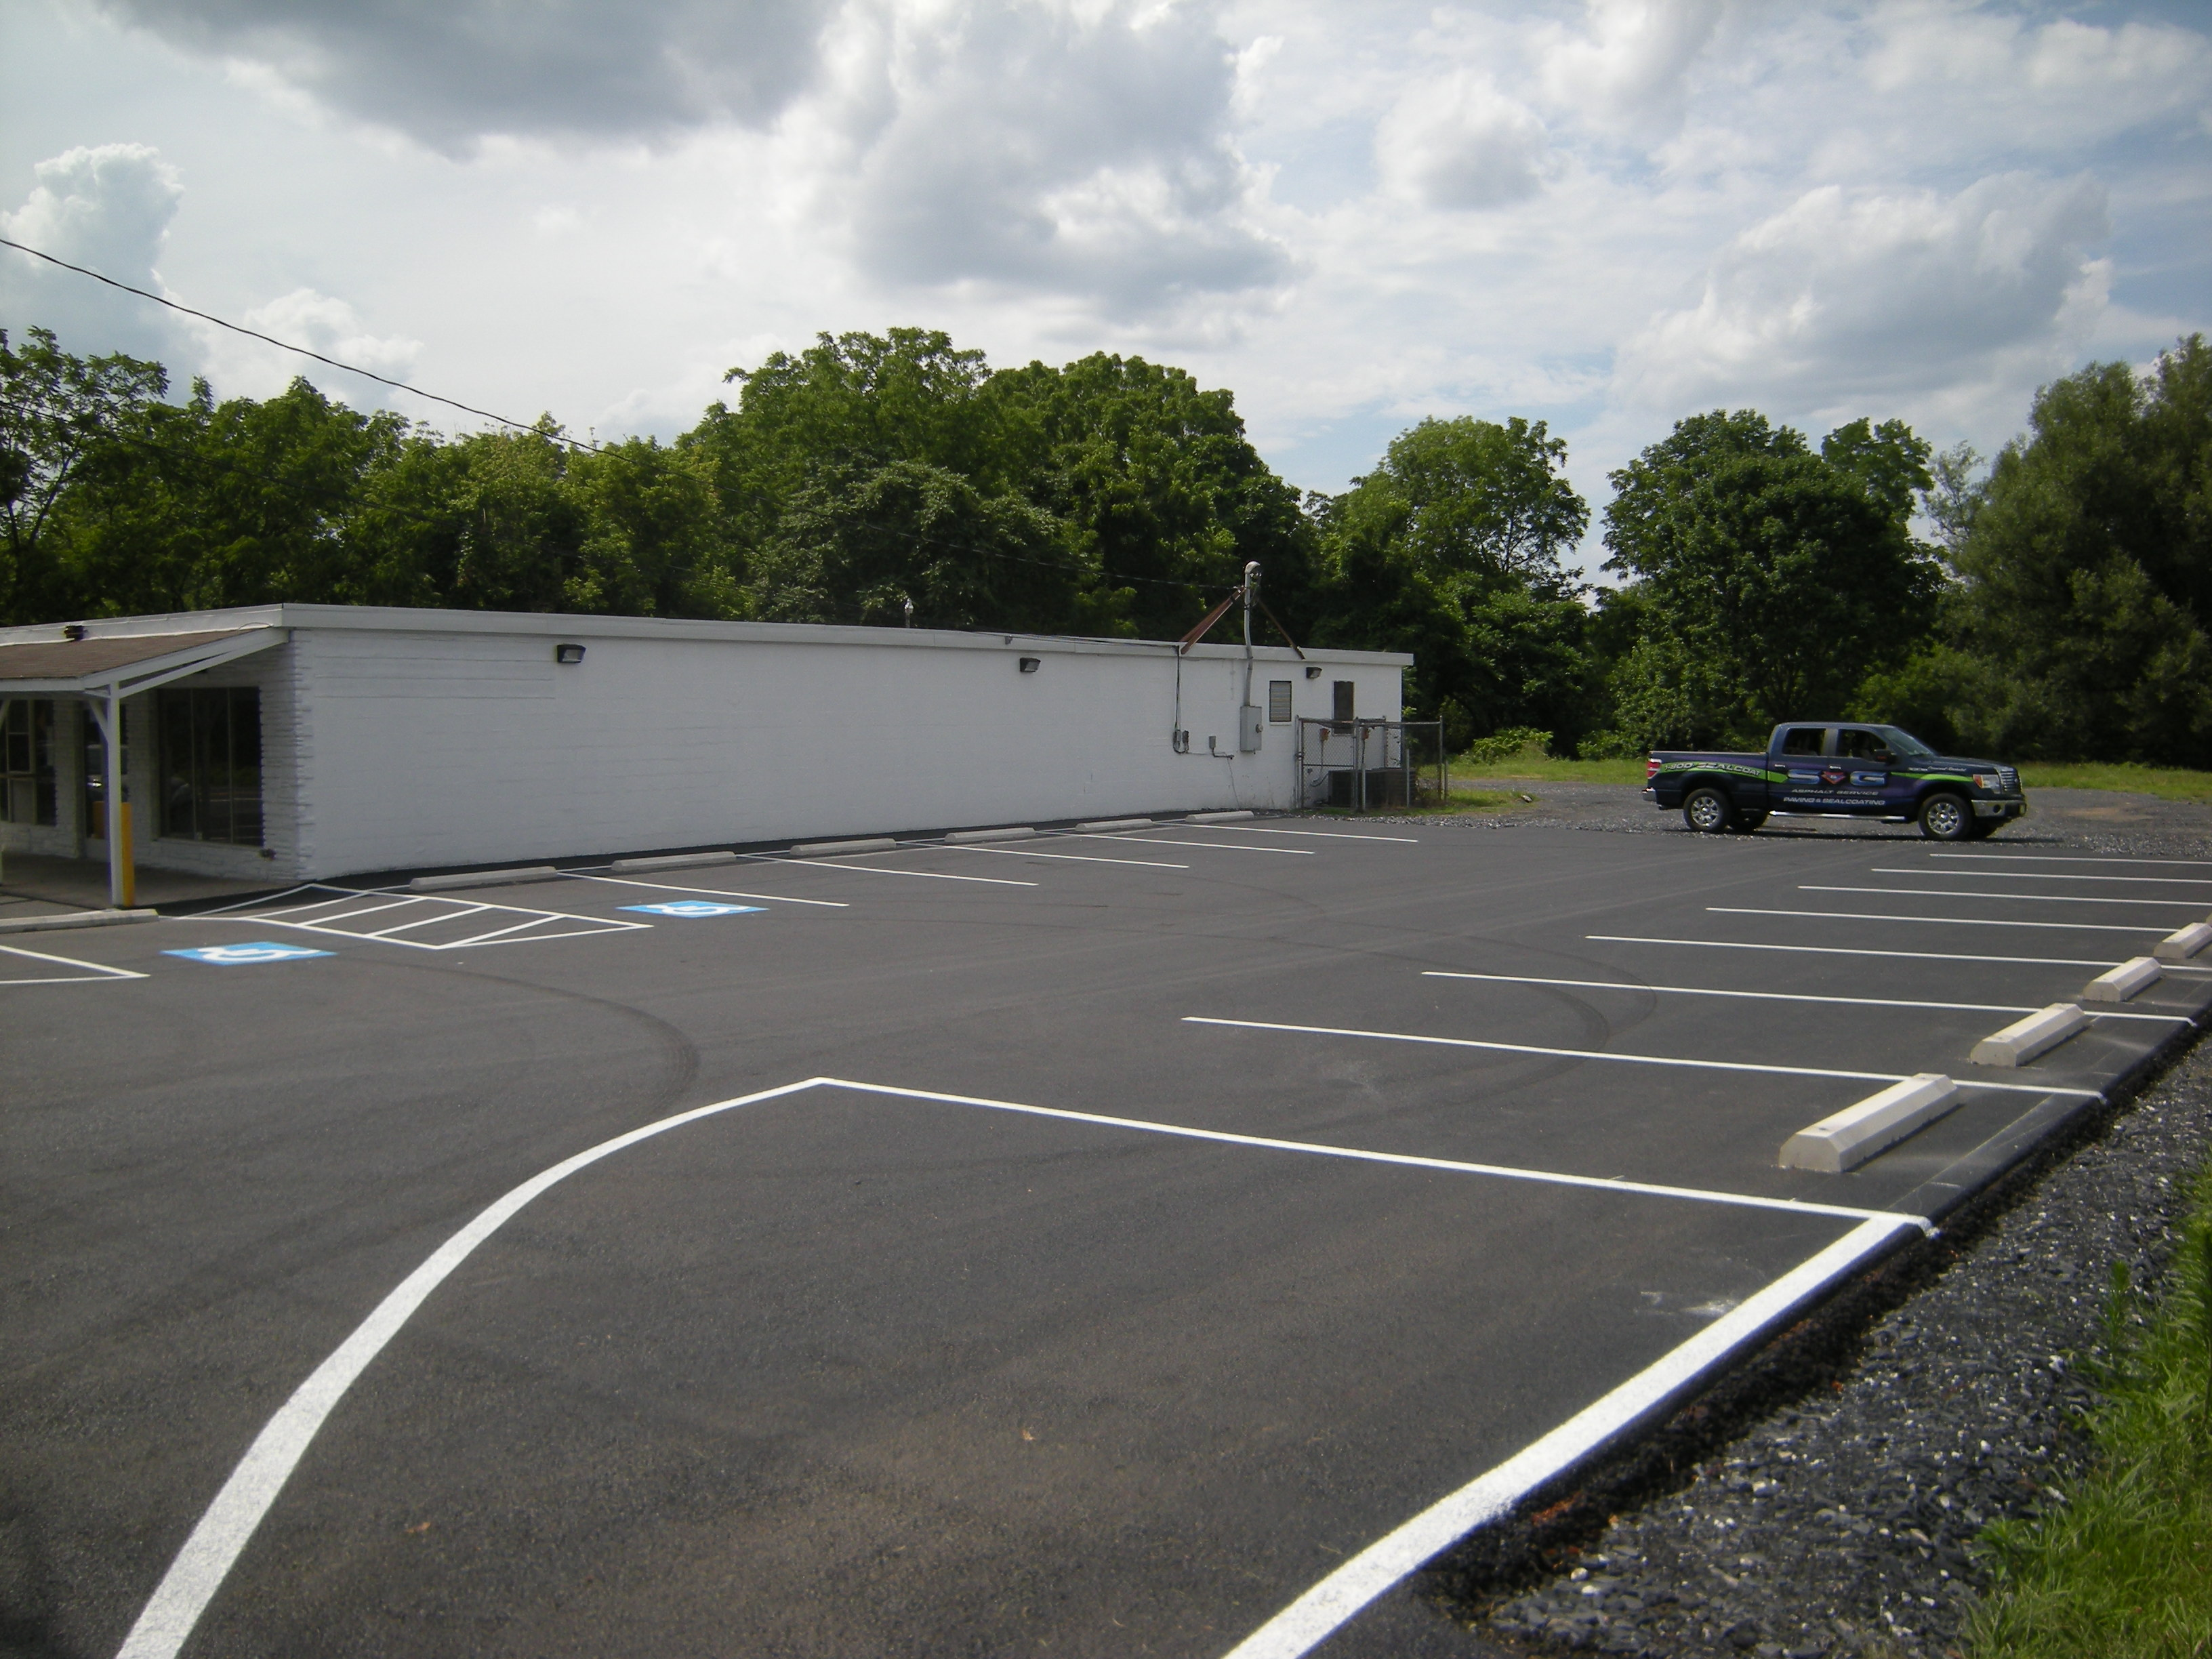empyt_space: (815, 1009, 2111, 1248), (1179, 957, 2202, 1134), (1414, 927, 2212, 1040), (1583, 899, 2212, 983), (542, 840, 1038, 920), (395, 857, 853, 943), (3, 904, 446, 992), (758, 833, 1195, 899), (923, 828, 1320, 878)
